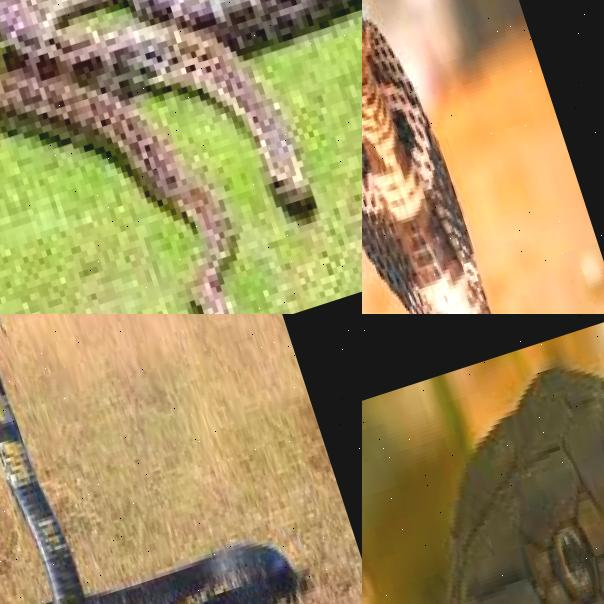snake: (0, 0, 362, 314), (362, 323, 604, 604), (362, 0, 534, 314), (0, 314, 154, 604)
